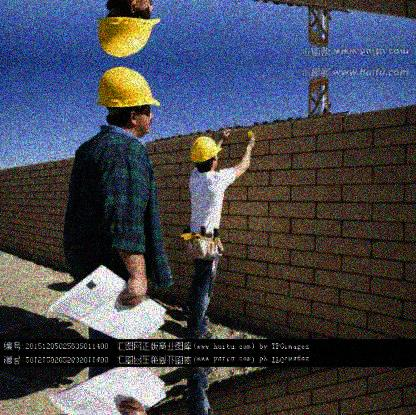helmet: (97, 68, 161, 134), (99, 1, 160, 57), (190, 137, 221, 173)
